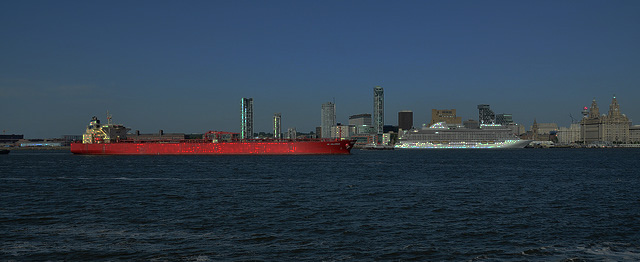cruise_ship: (393, 116, 533, 151)
tanker: (69, 117, 358, 154)
